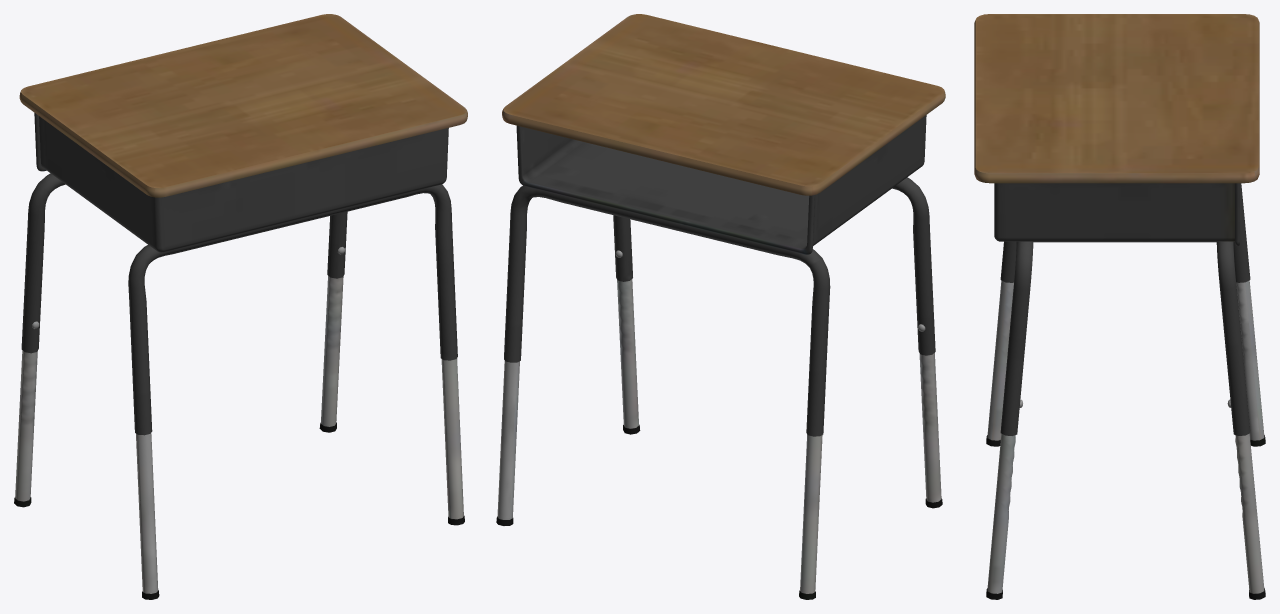
File: desk.glb
3 views of the same model, side by side, from view 1: azimuth 30°, elevation 25°; view 2: azimuth 150°, elevation 25°; view 3: azimuth 270°, elevation 25° (orthographic). The views are drawn at different scales.
Parts seen in each view (by area): view 1: SchoolDesk_01; view 2: SchoolDesk_01; view 3: SchoolDesk_01.
Boxes of the visible parts, left/top/right/bottom form: SchoolDesk_01: left=14, top=14, right=467, bottom=599; SchoolDesk_01: left=496, top=14, right=945, bottom=599; SchoolDesk_01: left=974, top=14, right=1265, bottom=599.
Size of the model in its own units: 0.7117 by 0.8826 by 0.546.
Materials: 1 (1 with a texture image).
